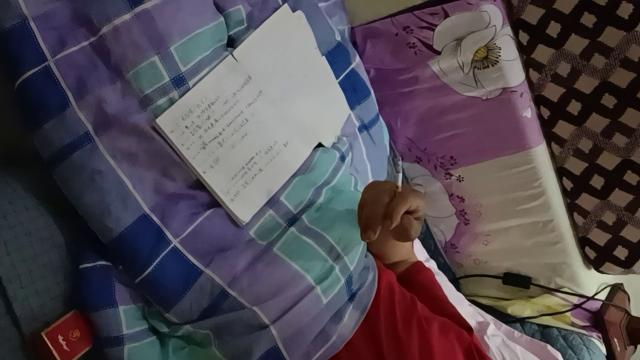Cigarette: (396, 156, 402, 200)
